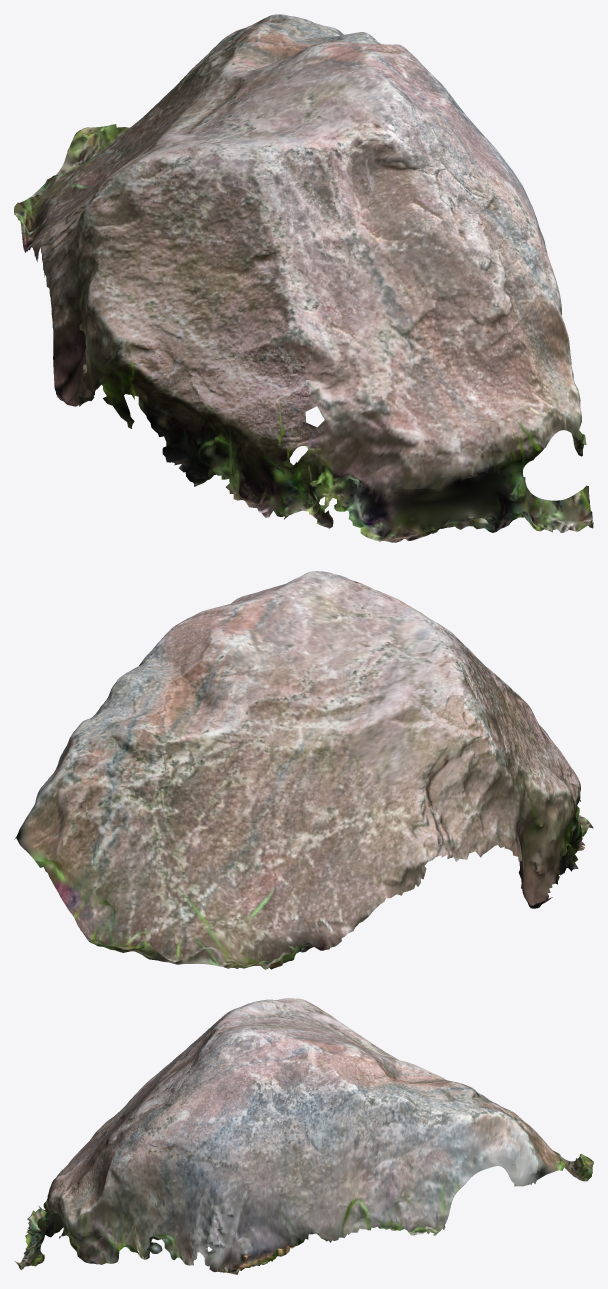
Rendered from cleaned.fbx.
3 views of the same model, one above another, from view 1: azimuth 30°, elevation 25°; view 2: azimuth 150°, elevation 25°; view 3: azimuth 270°, elevation 25° (orthographic). The views are drawn at different scales.
Parts seen in each view (by area): view 1: nodes[0]; view 2: nodes[0]; view 3: nodes[0].
Part boxes in pixels (box(x1,y1,x2,y2)): nodes[0]: box(14, 14, 593, 542); nodes[0]: box(14, 571, 593, 969); nodes[0]: box(14, 998, 593, 1274).
Bounding box in the file's own units: 81.98 × 56.26 × 131.
Materials: 1 (1 with a texture image).
